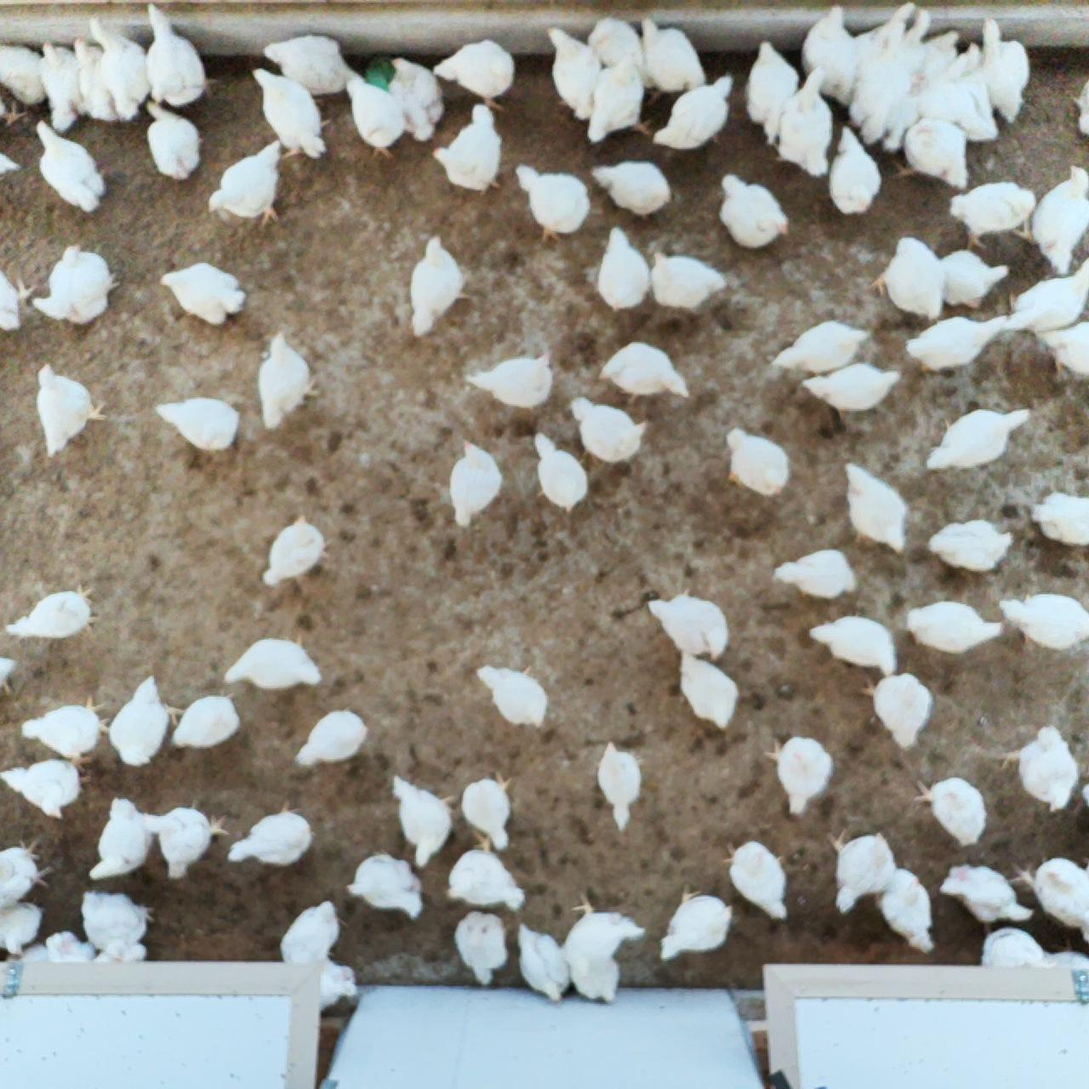chicken: (249, 61, 335, 163), (140, 0, 220, 109), (202, 139, 294, 233), (925, 401, 1035, 479), (994, 721, 1080, 819), (106, 671, 187, 774), (31, 116, 111, 220), (29, 241, 123, 329), (428, 99, 509, 197), (87, 8, 155, 123), (401, 230, 474, 337), (1022, 162, 1089, 278), (770, 64, 836, 180), (33, 359, 107, 462), (938, 860, 1038, 936), (1006, 851, 1089, 942), (716, 832, 795, 927), (260, 27, 360, 102), (143, 799, 232, 883), (820, 824, 899, 918), (867, 232, 946, 326), (650, 71, 738, 155), (643, 584, 736, 663), (839, 458, 911, 560), (443, 828, 529, 913), (256, 325, 323, 434), (513, 159, 594, 248), (389, 768, 458, 872), (902, 312, 1012, 376), (903, 594, 1005, 663), (715, 169, 795, 256), (431, 36, 520, 114), (805, 610, 902, 681), (655, 879, 736, 964), (0, 754, 95, 826), (597, 337, 696, 406), (946, 178, 1037, 253), (566, 391, 654, 468), (18, 693, 116, 762), (557, 888, 647, 963), (976, 13, 1036, 125), (762, 730, 835, 822), (768, 315, 875, 377), (798, 358, 905, 420), (84, 794, 159, 882), (223, 800, 317, 870), (4, 579, 100, 647), (77, 885, 160, 963), (461, 347, 560, 412), (155, 260, 248, 329), (471, 660, 555, 736), (744, 36, 803, 144), (223, 633, 326, 694), (152, 391, 244, 459), (542, 22, 604, 121), (799, 1, 858, 105), (344, 849, 430, 920), (385, 50, 446, 150), (874, 864, 938, 959), (997, 587, 1089, 653), (912, 775, 991, 851), (258, 511, 334, 589), (636, 13, 710, 93), (922, 516, 1019, 577), (721, 423, 794, 504), (583, 63, 652, 148), (892, 117, 972, 190), (445, 437, 508, 528), (676, 646, 740, 734), (142, 96, 206, 184), (825, 123, 883, 219), (530, 429, 594, 515), (769, 544, 862, 603), (277, 897, 351, 971), (590, 157, 679, 218), (594, 736, 648, 836), (458, 769, 522, 851), (952, 41, 1003, 143), (169, 687, 245, 755), (291, 707, 370, 772), (30, 36, 84, 131), (595, 224, 652, 313), (854, 0, 915, 83), (939, 243, 1011, 312), (452, 907, 514, 985), (649, 248, 728, 309), (514, 921, 572, 1004), (878, 7, 934, 82), (918, 50, 971, 129), (0, 837, 56, 910), (1025, 487, 1089, 550), (584, 13, 650, 71), (975, 919, 1053, 968), (69, 34, 108, 120), (1037, 319, 1089, 380), (0, 39, 47, 106), (877, 79, 920, 151), (848, 66, 887, 145), (0, 897, 48, 960), (567, 952, 624, 1005), (0, 267, 41, 336), (915, 26, 964, 79), (314, 958, 360, 1012), (40, 925, 91, 965), (1047, 935, 1089, 973), (1066, 74, 1089, 139)
